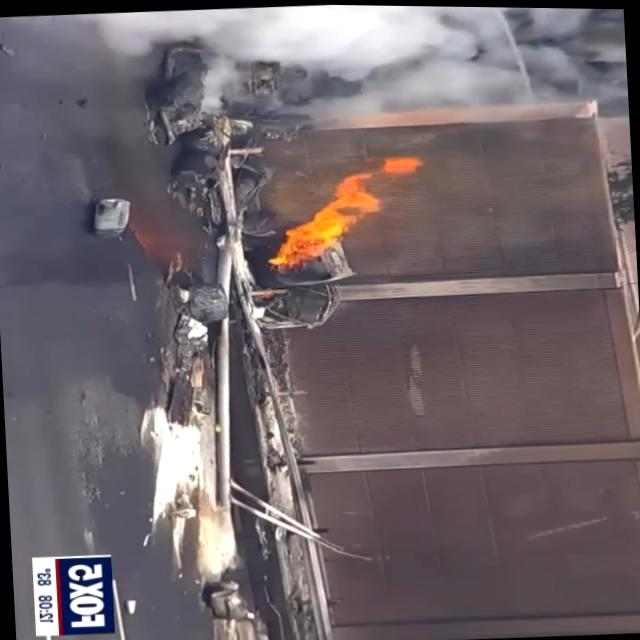fire: (263, 178, 383, 270)
